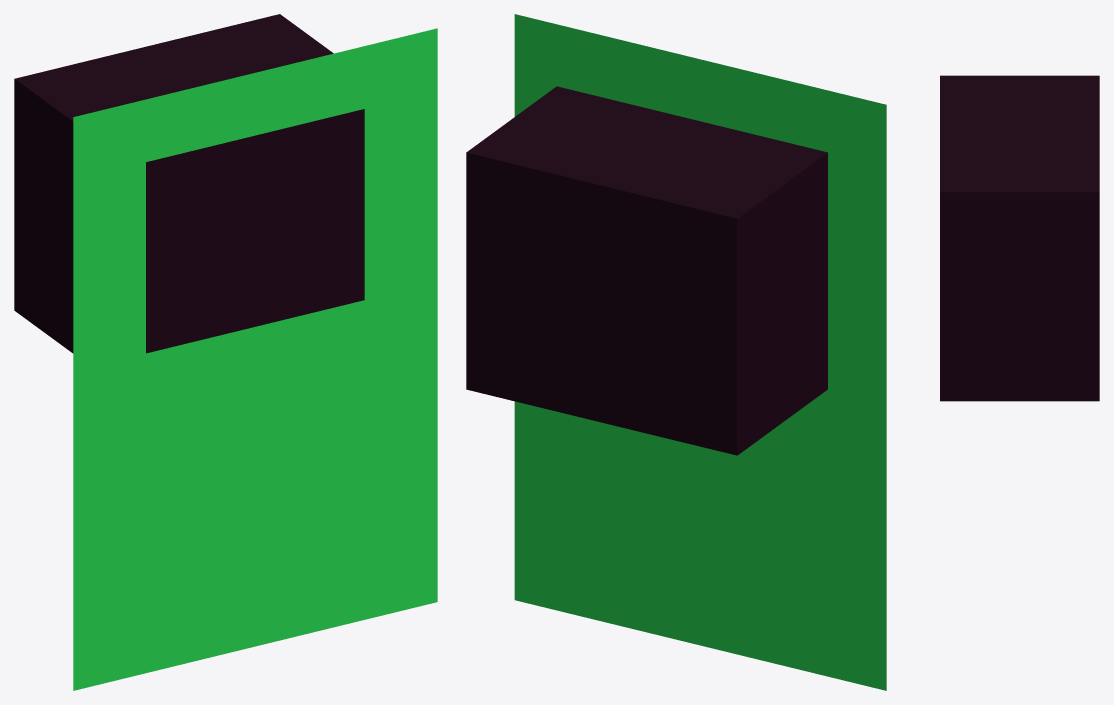
File: card.glb
3 renders of one model, left to right at view 1: azimuth 30°, elevation 25°; view 2: azimuth 150°, elevation 25°; view 3: azimuth 270°, elevation 25°, orthographic. The views are drawn at different scales.
Visible parts, largest first — view 1: Cube, Cube.001; view 2: Cube, Cube.001; view 3: Cube.001.
Part boxes in pixels (x1=…): Cube: x1=73, y1=28, x2=437, y2=690; Cube.001: x1=14, y1=14, x2=364, y2=353; Cube: x1=514, y1=14, x2=886, y2=690; Cube.001: x1=466, y1=86, x2=827, y2=455; Cube.001: x1=940, y1=75, x2=1099, y2=401.
Size of the model in its own units: 3.65 by 5.5 by 1.78.
